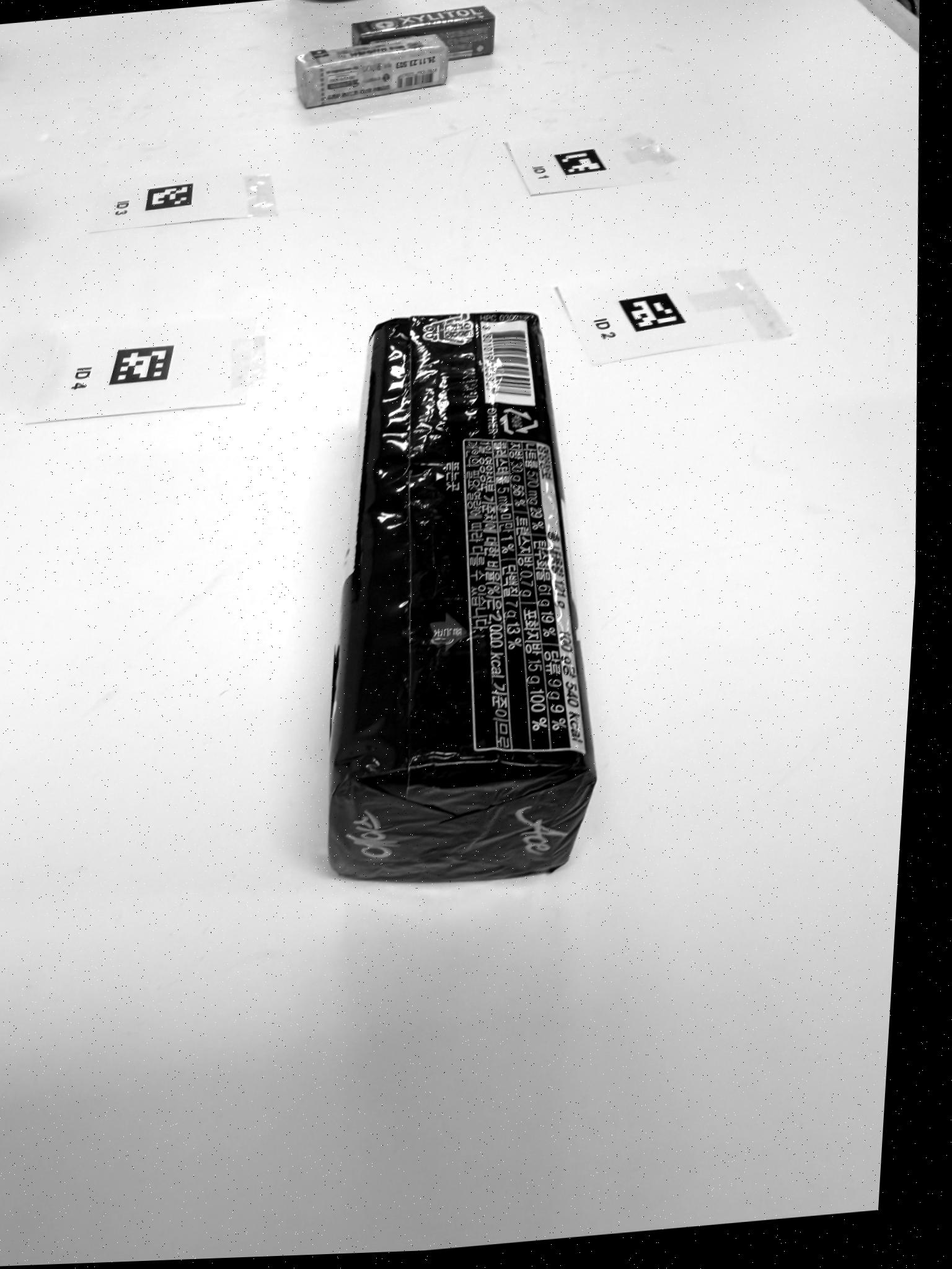cracker_ace: (328, 313, 595, 881)
